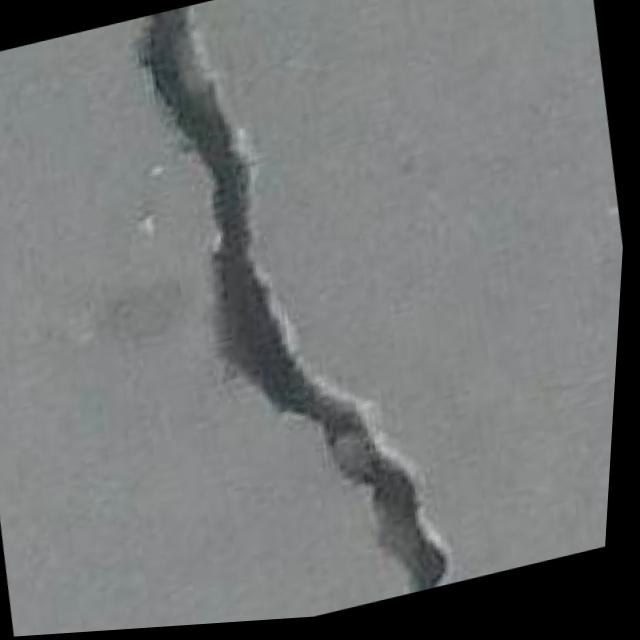Crack: (48, 0, 536, 636)
